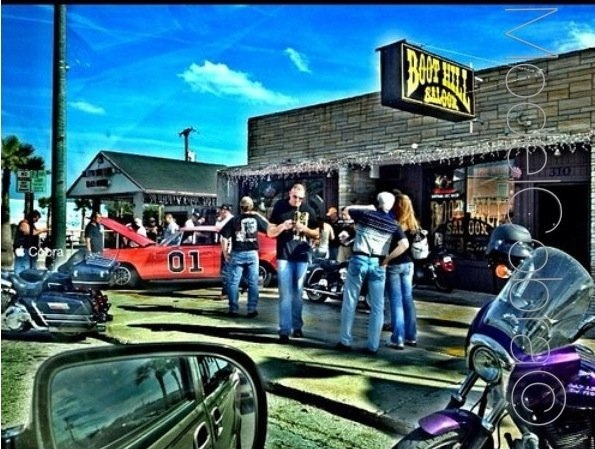non-vehicle: (392, 245, 593, 448), (0, 255, 118, 343), (303, 258, 370, 314), (413, 231, 458, 293)
